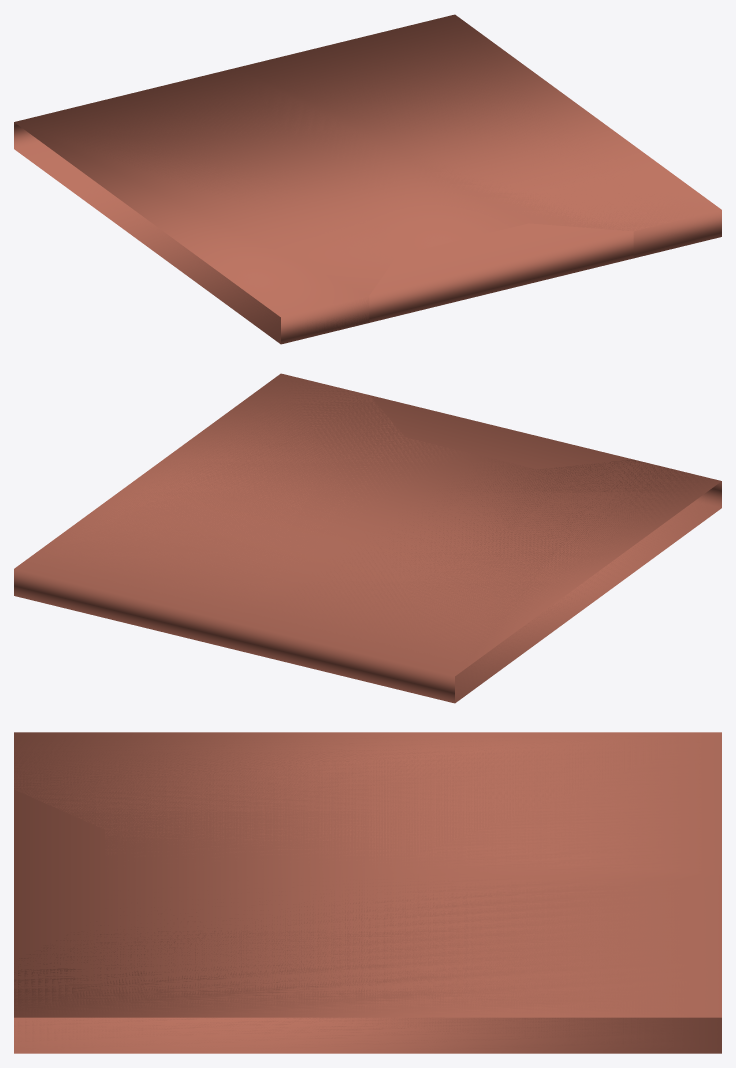
File: SM_environment_tile_bridge_mar30.fbx
3 renders of one model, top to bottom at view 1: azimuth 30°, elevation 25°; view 2: azimuth 150°, elevation 25°; view 3: azimuth 270°, elevation 25°, orthographic. The views are drawn at different scales.
Parts seen in each view (by area): view 1: SM_asset_tile_bridge, bridge_tile_middle2; view 2: SM_asset_tile_bridge, bridge_tile_middle2; view 3: SM_asset_tile_bridge, bridge_tile_middle2.
Part boxes in pixels (bbox=[...]): SM_asset_tile_bridge: bbox=[14, 15, 721, 343]; bridge_tile_middle2: bbox=[14, 14, 721, 344]; SM_asset_tile_bridge: bbox=[14, 373, 721, 702]; bridge_tile_middle2: bbox=[14, 373, 721, 703]; SM_asset_tile_bridge: bbox=[14, 732, 721, 1053]; bridge_tile_middle2: bbox=[14, 732, 721, 1053].
Size of the model in its own units: 1330 by 77.98 by 1395.
